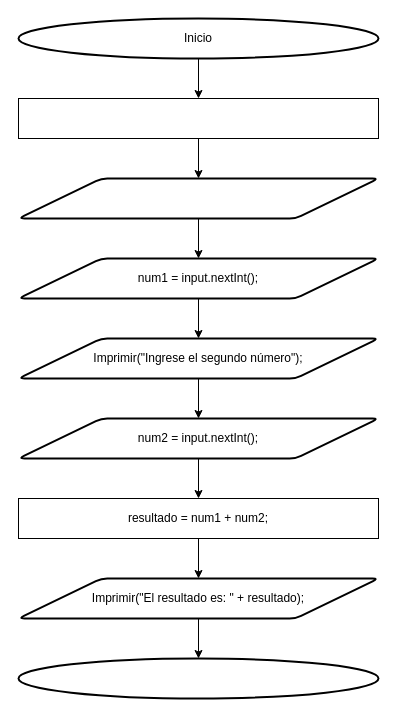
The diagram is 396 pixels wide and 716 high, and some of its shapes have lost their labels. The shapes that lost their labels are listed below. From the top down, each one's centre as x and y in pixels, then its label:
(x=198, y=118): int num1, num2, resultado;
(x=198, y=198): Imprimir("Ingrese el primer número");
(x=198, y=678): Fin
